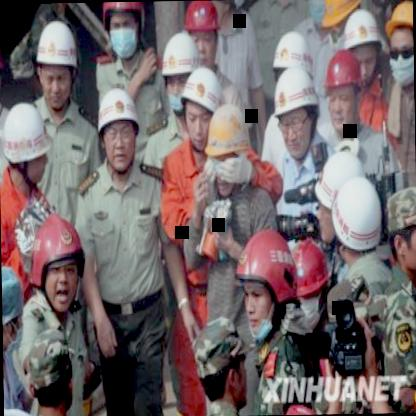head: (192, 314, 250, 412), (25, 328, 80, 416), (387, 179, 416, 285), (1, 266, 21, 354)
helmet: (236, 224, 298, 326), (26, 209, 88, 310), (90, 82, 146, 180), (272, 58, 322, 162), (314, 146, 368, 240), (330, 172, 386, 258), (0, 98, 51, 192), (32, 15, 80, 112), (318, 43, 364, 132), (176, 62, 222, 150), (284, 234, 332, 315), (202, 103, 249, 172), (343, 12, 384, 80), (158, 30, 196, 100), (102, 1, 144, 63), (270, 24, 312, 82), (184, 0, 222, 64), (320, 0, 366, 48), (384, 0, 413, 62), (0, 22, 5, 121)
